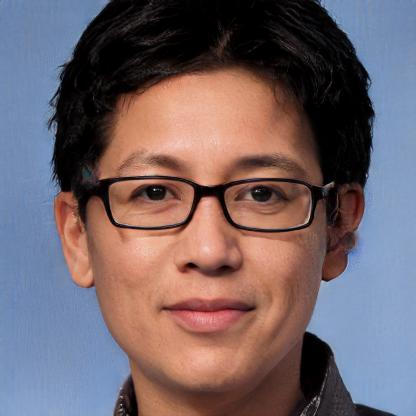glasses: (78, 170, 338, 238)
